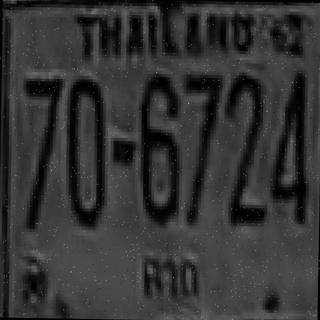N07: (182, 71, 220, 161), (182, 71, 219, 152), (24, 75, 61, 155)
P69: (128, 246, 208, 309)
